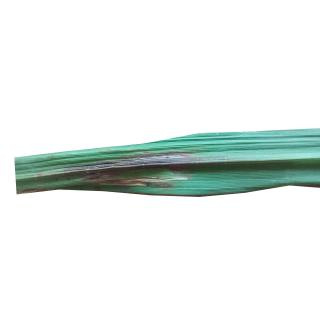Hawar-Daun: (45, 151, 220, 197)
